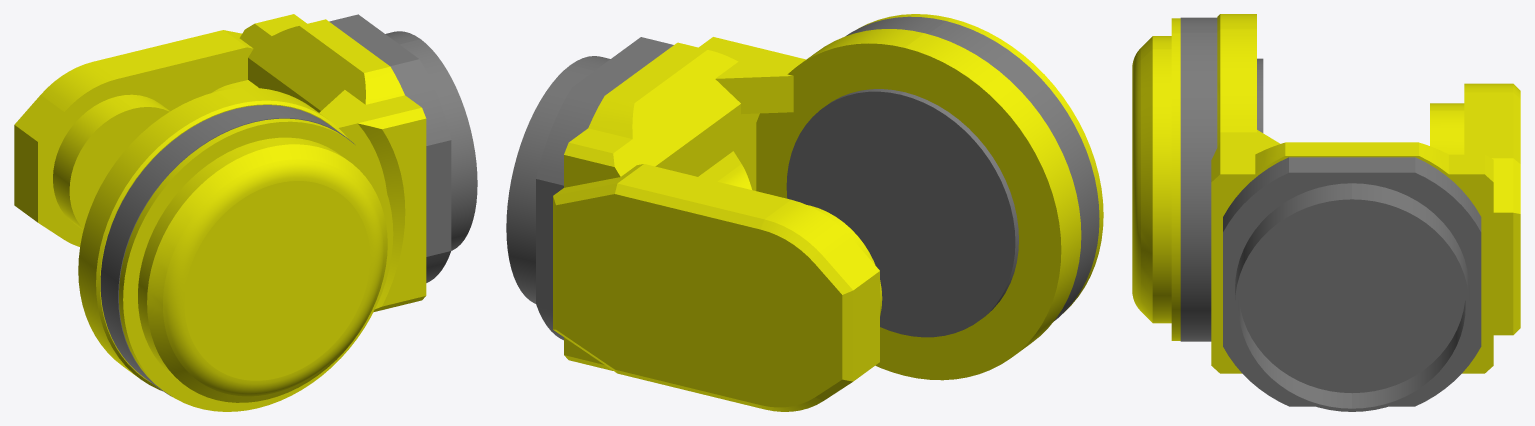
3 renders of one model, left to right at view 1: azimuth 30°, elevation 25°; view 2: azimuth 150°, elevation 25°; view 3: azimuth 270°, elevation 25°, orthographic. The views are drawn at different scales.
Parts seen in each view (by area): view 1: Mesh_0; view 2: Mesh_0; view 3: Mesh_0.
Part boxes in pixels (<box>): Mesh_0: <box>14,14,477,411</box>; Mesh_0: <box>506,14,1103,411</box>; Mesh_0: <box>1132,14,1520,411</box>.
Bounding box in the file's own units: 0.3165 × 0.265 × 0.226.
